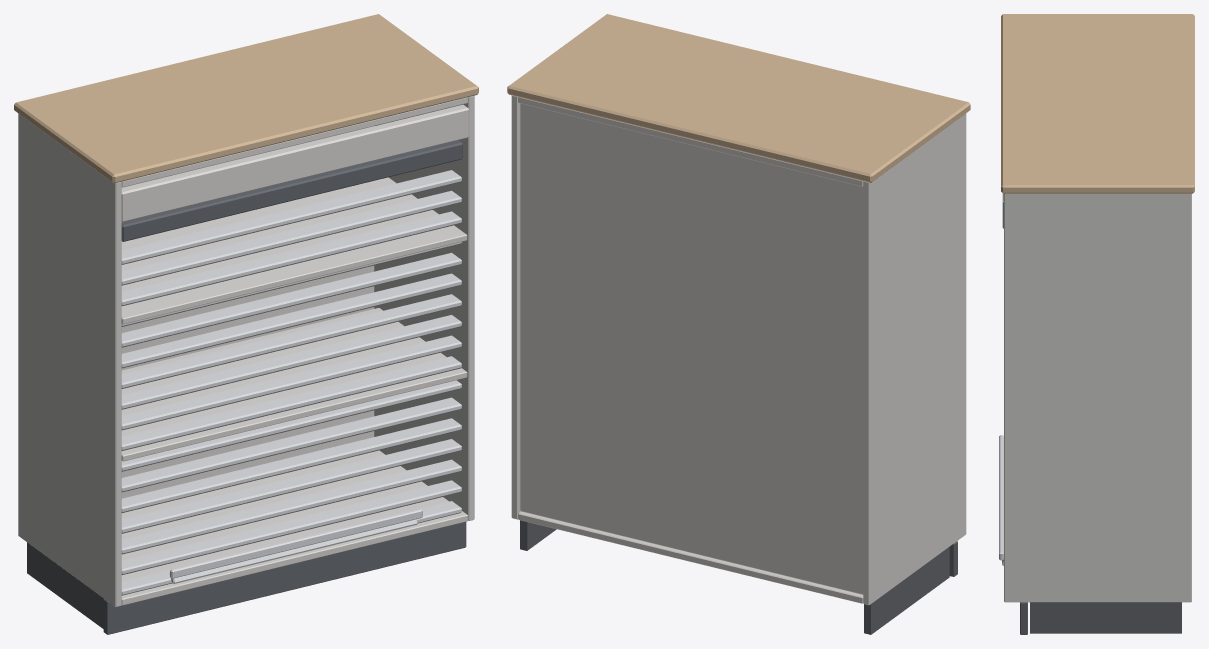
Rendered from tambour-cupboard.glb.
The picture shows the model from 3 angles, left to right: view 1: azimuth 30°, elevation 25°; view 2: azimuth 150°, elevation 25°; view 3: azimuth 270°, elevation 25°; orthographic projection. The views are drawn at different scales.
Parts seen in each view (by area): view 1: tambour-cupboard, shutter/metal, shutter/dark; view 2: tambour-cupboard; view 3: tambour-cupboard, shutter/metal.
Part boxes in pixels (x1,y1,x2,y2): tambour-cupboard: (14, 14, 478, 634); shutter/metal: (121, 170, 461, 595); shutter/dark: (121, 140, 462, 241); tambour-cupboard: (507, 14, 970, 634); tambour-cupboard: (1001, 14, 1194, 634); shutter/metal: (999, 435, 1003, 565).
Bounding box in the file's own units: 1.02 × 1.24 × 0.489.
